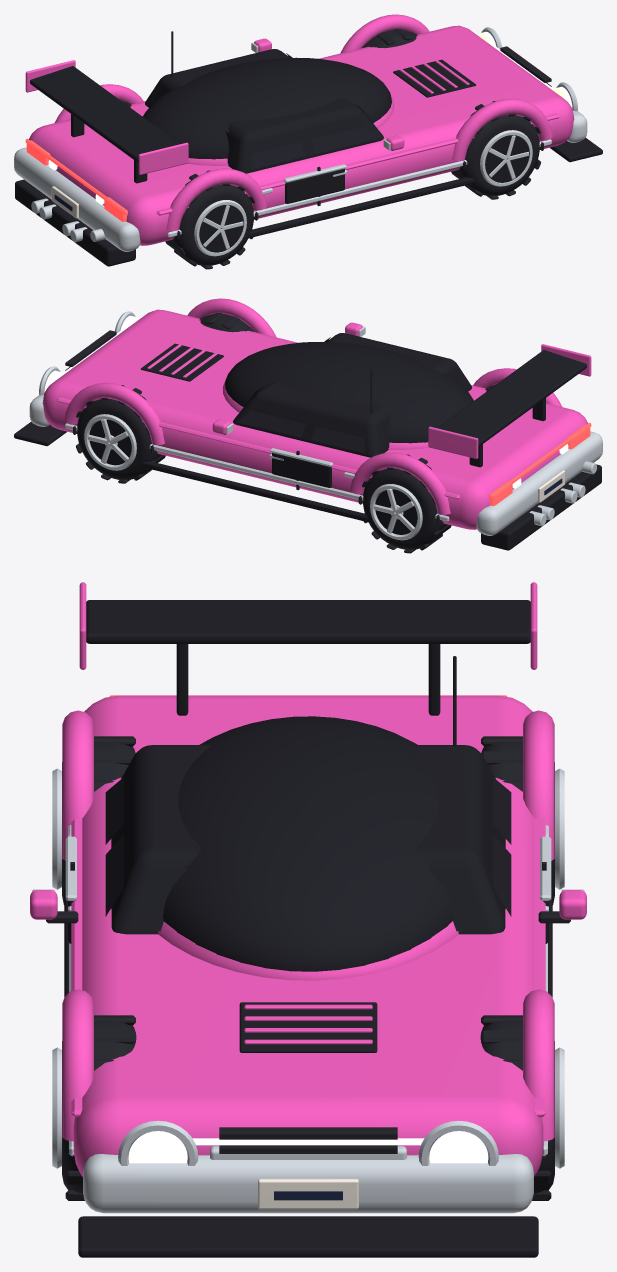
The model's file is supercar.glb.
3 views of the same model, one above another, from view 1: azimuth 30°, elevation 25°; view 2: azimuth 150°, elevation 25°; view 3: azimuth 270°, elevation 25° (orthographic). The views are drawn at different scales.
Visible parts, largest first — view 1: supercar; view 2: supercar; view 3: supercar.
Part boxes in pixels (x1,y1,x2,y2): supercar: [14, 14, 602, 269]; supercar: [14, 298, 602, 553]; supercar: [30, 582, 586, 1257].
Size of the model in its own units: 4.96 by 1.47 by 2.43.
Materials: 1 (1 with a texture image).
